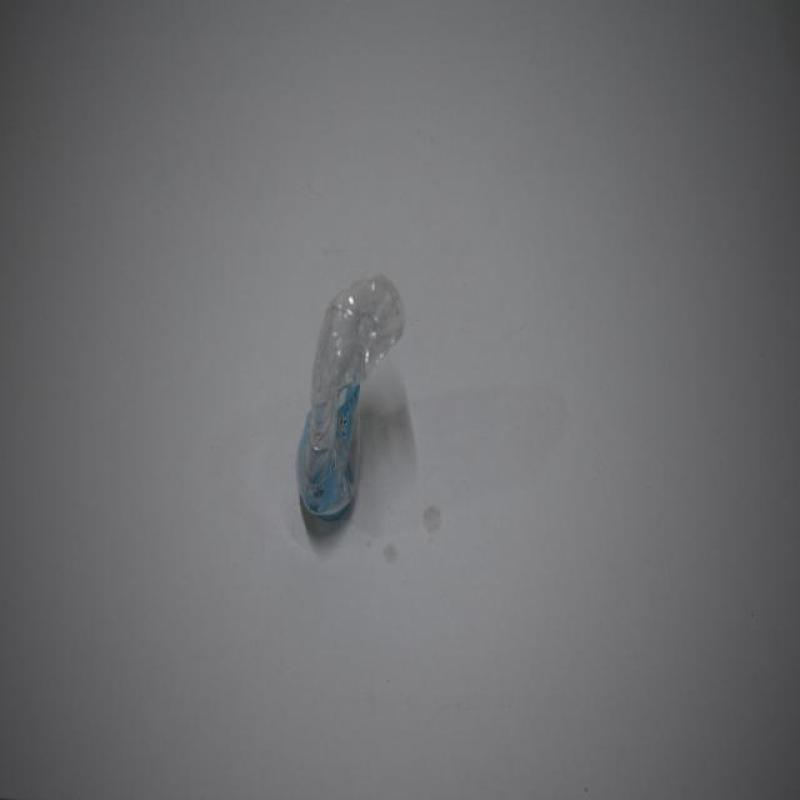botella: (288, 274, 406, 520)
